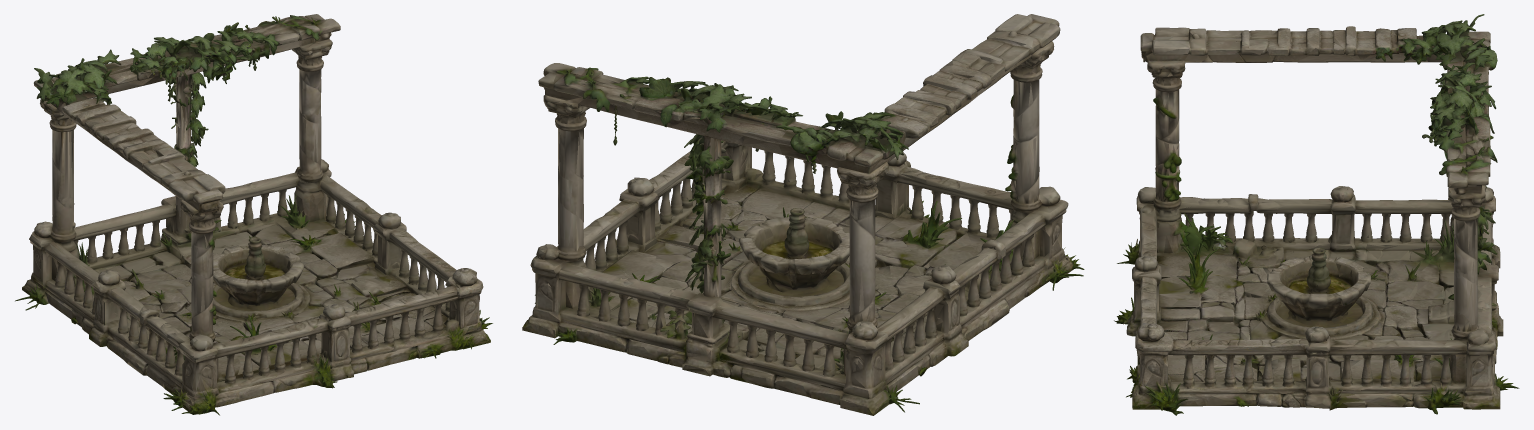
The model's file is ruin-court.glb.
The picture shows the model from 3 angles, left to right: view 1: azimuth 30°, elevation 25°; view 2: azimuth 150°, elevation 25°; view 3: azimuth 270°, elevation 25°; orthographic projection. The views are drawn at different scales.
Visible parts, largest first — view 1: tripo_node_255855e4; view 2: tripo_node_255855e4; view 3: tripo_node_255855e4.
Boxes of the visible parts, left/top/right/bottom form: tripo_node_255855e4: left=15, top=14, right=492, bottom=415; tripo_node_255855e4: left=522, top=14, right=1084, bottom=415; tripo_node_255855e4: left=1114, top=14, right=1519, bottom=415.
Size of the model in its own units: 0.9825 by 0.6619 by 0.9786.
1 material, 1 textured.
